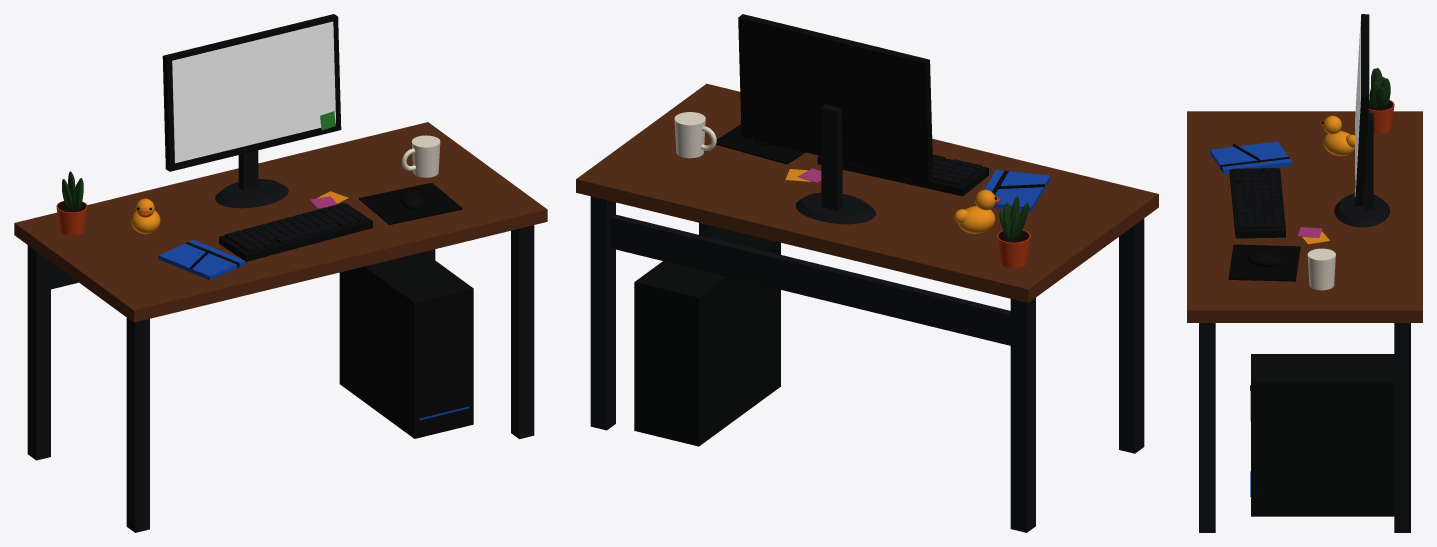
File: escritorio-informatico.obj
The picture shows the model from 3 angles, left to right: view 1: azimuth 30°, elevation 25°; view 2: azimuth 150°, elevation 25°; view 3: azimuth 270°, elevation 25°; orthographic projection. The views are drawn at different scales.
Parts seen in each view (by area): view 1: tablero, torre_caja, pantalla_cristal, pata_3, pata_4, pata_1, monitor_carcasa, alfombrilla, libreta_tapa, teclado_base, monitor_base, taza (+2 smaller); view 2: tablero, torre_caja, monitor_carcasa, travesano, pata_1, pata_3, pata_2, monitor_columna, monitor_base, libreta_tapa, teclado_base, alfombrilla (+3 smaller); view 3: tablero, torre_caja, pata_2, pata_4, alfombrilla, monitor_carcasa, libreta_tapa, teclado_base, monitor_base, taza, monitor_columna, pantalla_cristal (+4 smaller).
Part boxes in pixels (<box>): tablero: <box>14,122,547,322</box>; torre_caja: <box>339,252,473,438</box>; pantalla_cristal: <box>172,21,335,163</box>; pata_3: <box>126,318,149,532</box>; pata_4: <box>511,225,534,439</box>; pata_1: <box>27,245,50,460</box>; monitor_carcasa: <box>162,14,341,171</box>; alfombrilla: <box>359,182,462,224</box>; libreta_tapa: <box>158,240,245,280</box>; teclado_base: <box>219,203,372,261</box>; monitor_base: <box>215,179,288,208</box>; taza: <box>411,135,440,177</box>; tablero: <box>576,83,1158,302</box>; torre_caja: <box>634,226,780,446</box>; monitor_carcasa: <box>738,14,933,182</box>; travesano: <box>610,214,1010,345</box>; pata_1: <box>1010,298,1035,532</box>; pata_3: <box>1119,218,1144,453</box>; pata_2: <box>590,196,615,430</box>; monitor_columna: <box>821,104,842,210</box>; monitor_base: <box>795,192,875,224</box>; libreta_tapa: <box>984,170,1050,211</box>; teclado_base: <box>817,155,988,196</box>; alfombrilla: <box>716,124,805,164</box>; tablero: <box>1187,111,1422,322</box>; torre_caja: <box>1251,354,1394,516</box>; pata_2: <box>1394,323,1410,532</box>; pata_4: <box>1199,323,1215,532</box>; alfombrilla: <box>1228,244,1300,281</box>; monitor_carcasa: <box>1355,14,1369,206</box>; libreta_tapa: <box>1210,141,1291,173</box>; teclado_base: <box>1229,168,1285,238</box>; monitor_base: <box>1334,193,1389,227</box>; taza: <box>1307,248,1335,290</box>; monitor_columna: <box>1364,113,1373,209</box>; pantalla_cristal: <box>1355,20,1360,196</box>.
Size of the model in its own units: 1.4 by 1.25 by 0.7.
